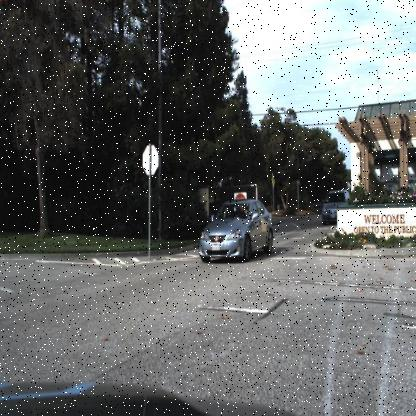car: (197, 196, 274, 268), (317, 186, 349, 228)
